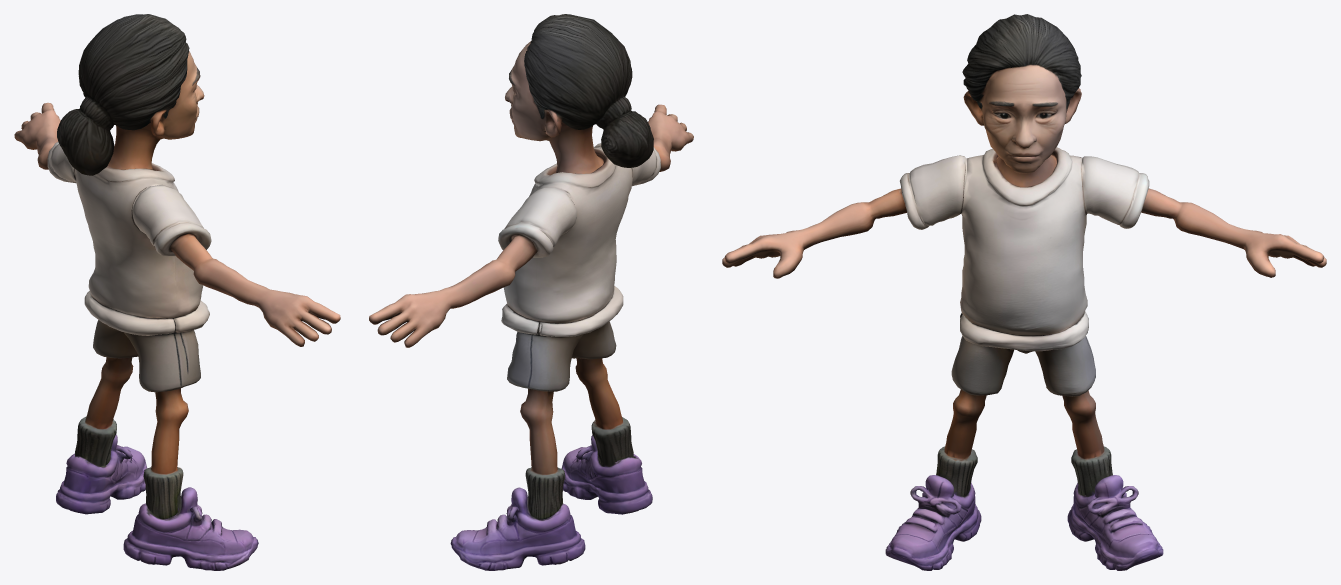
3 renders of one model, left to right at view 1: azimuth 30°, elevation 25°; view 2: azimuth 150°, elevation 25°; view 3: azimuth 270°, elevation 25°, orthographic. The views are drawn at different scales.
Parts seen in each view (by area): view 1: tripo_node_2ccdf076; view 2: tripo_node_2ccdf076; view 3: tripo_node_2ccdf076.
Part boxes in pixels (bbox=[...]): tripo_node_2ccdf076: bbox=[14, 14, 340, 570]; tripo_node_2ccdf076: bbox=[369, 14, 693, 570]; tripo_node_2ccdf076: bbox=[722, 14, 1326, 570].
Size of the model in its own units: 27.98 by 96.28 by 100.
Materials: 1 (1 with a texture image).
